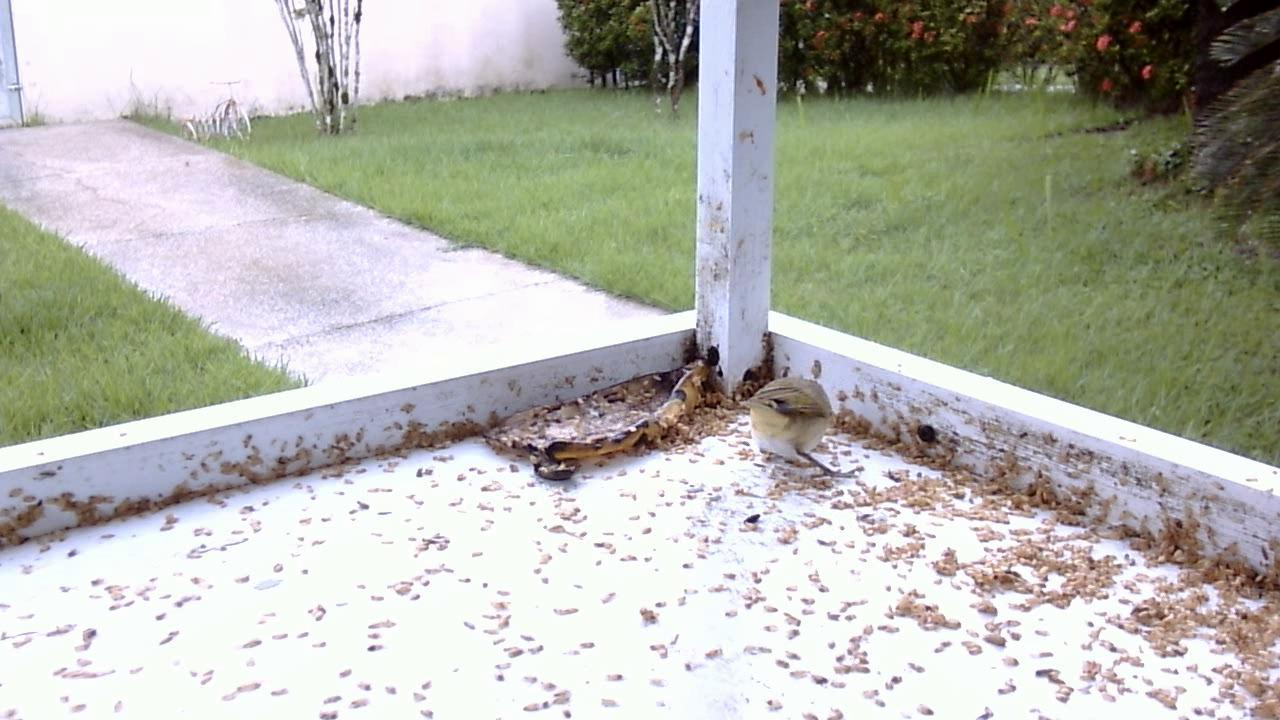canario_do_amazonas: (737, 371, 841, 480)
